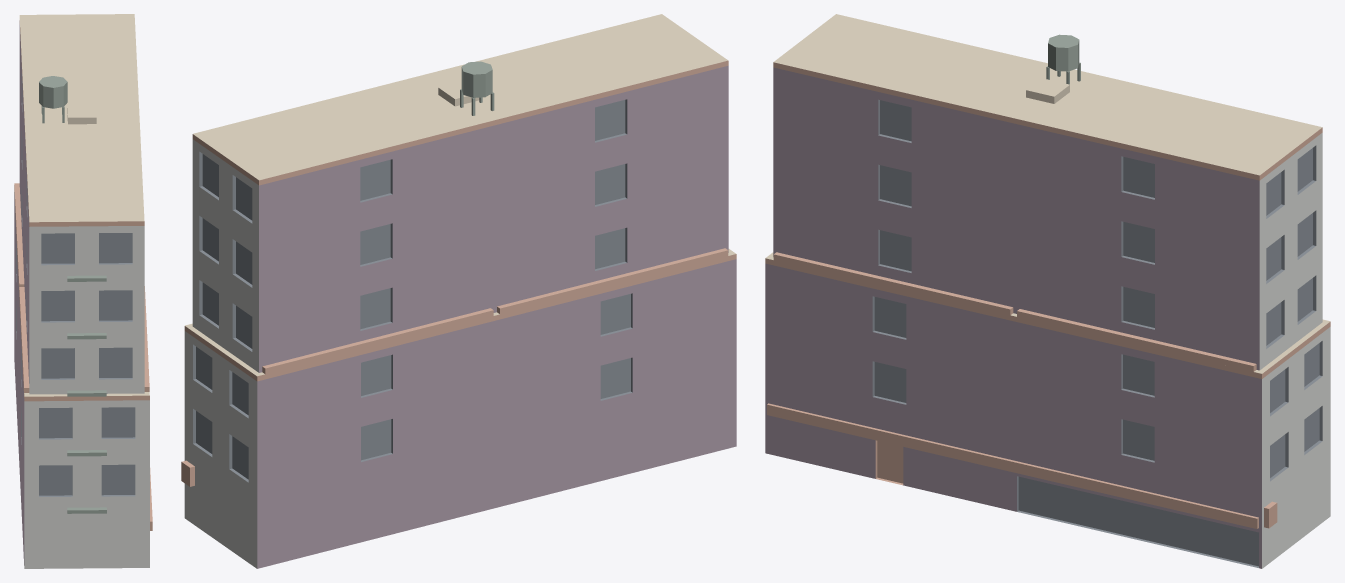
The model's file is doitt-835659__lod_0.glb.
3 views of the same model, side by side, from view 1: azimuth 30°, elevation 25°; view 2: azimuth 150°, elevation 25°; view 3: azimuth 270°, elevation 25° (orthographic). The views are drawn at different scales.
Size of the model in its own units: 21.47 by 25.59 by 30.4.
